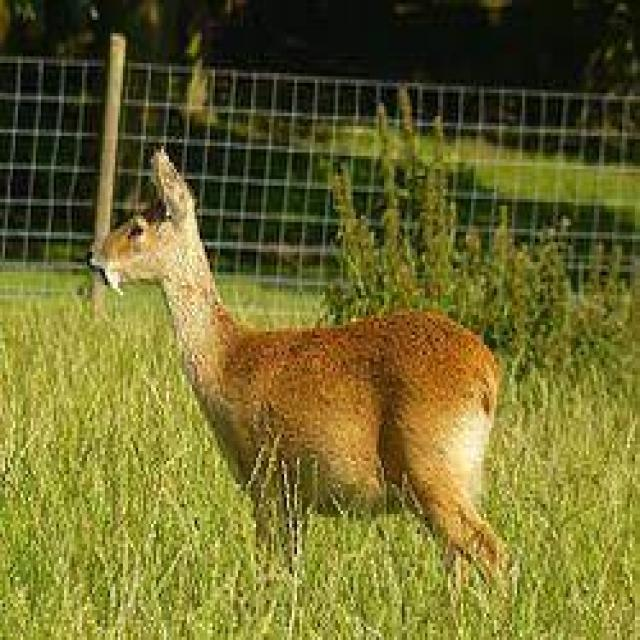elk: (87, 146, 512, 593)
